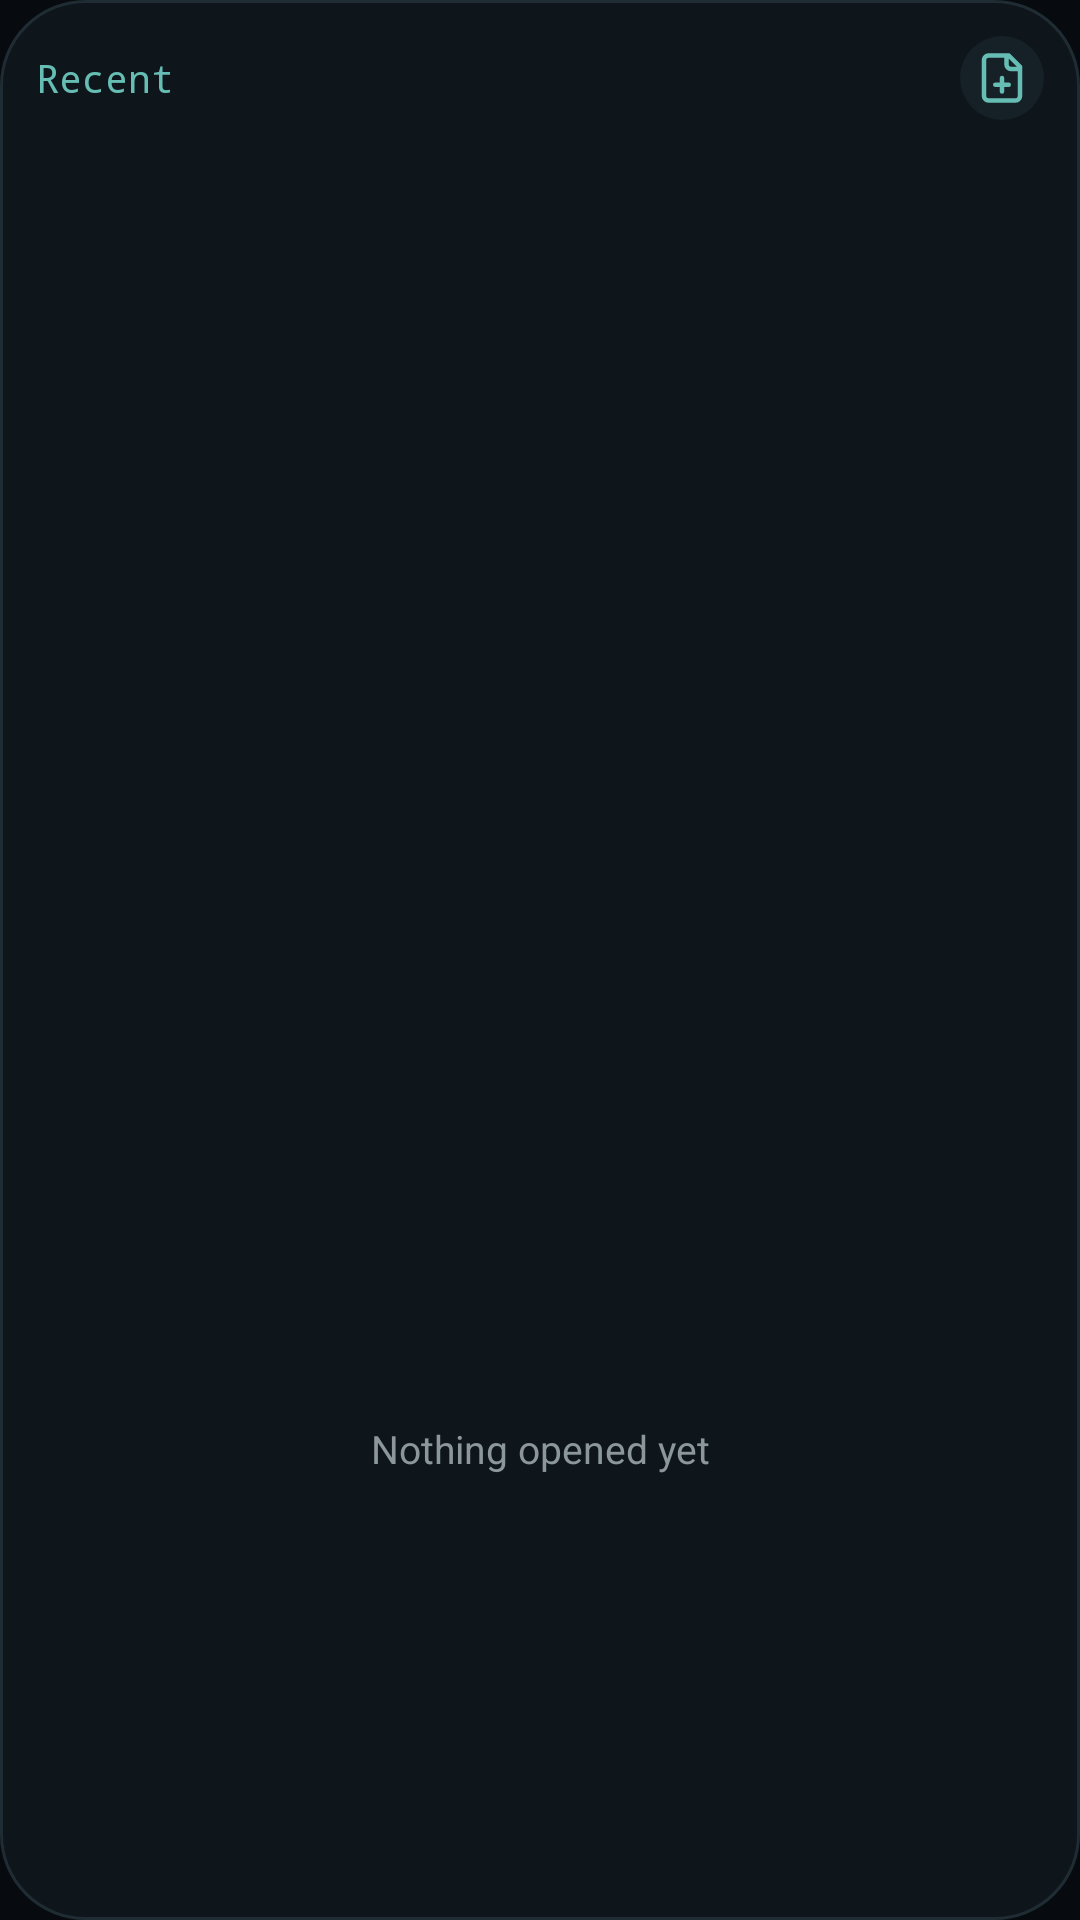

Icon click points for this 1080*1920 phone screenshot, format (x,y):
New note: (1002,78)
